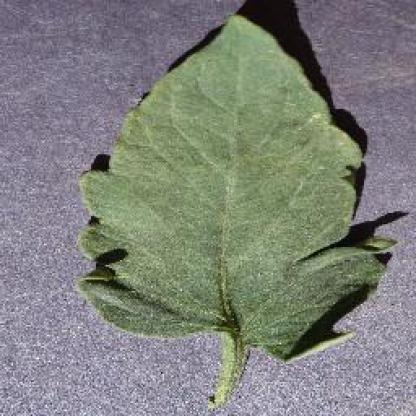bad leaf: (75, 13, 404, 414)
